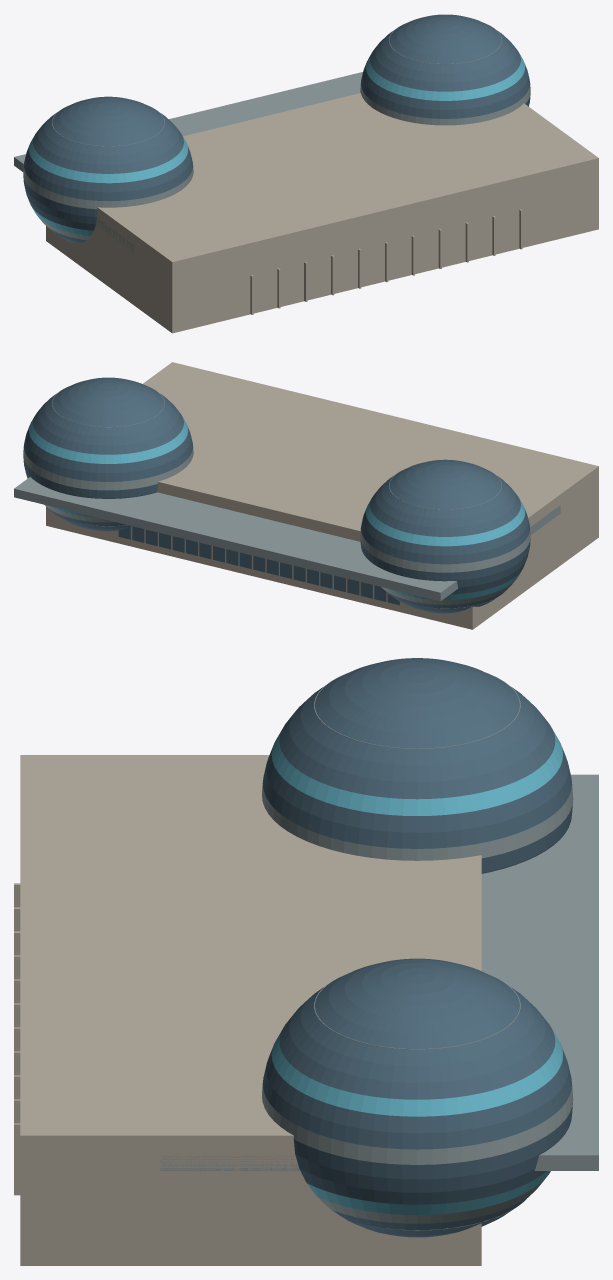
The model's file is convention_near.glb.
The picture shows the model from 3 angles, top to bottom: view 1: azimuth 30°, elevation 25°; view 2: azimuth 150°, elevation 25°; view 3: azimuth 270°, elevation 25°; orthographic projection. The views are drawn at different scales.
Visible parts, largest first — view 1: Limestone, Glazing, Silver, NightCool; view 2: Limestone, Glazing, Silver, NightCool; view 3: Limestone, Glazing, Silver, NightCool.
Part boxes in pixels (x1,y1,x2,y2): Limestone: [46, 93, 598, 333]; Glazing: [23, 14, 530, 243]; Silver: [14, 22, 530, 252]; NightCool: [28, 54, 525, 235]; Limestone: [46, 362, 598, 629]; Glazing: [23, 377, 530, 613]; Silver: [14, 386, 560, 608]; NightCool: [28, 418, 525, 599]; Limestone: [14, 755, 481, 1265]; Glazing: [262, 658, 573, 1237]; Silver: [160, 672, 598, 1230]; NightCool: [271, 730, 562, 1214].
Bounding box in the file's own units: 135 × 36.6 × 77.32.
